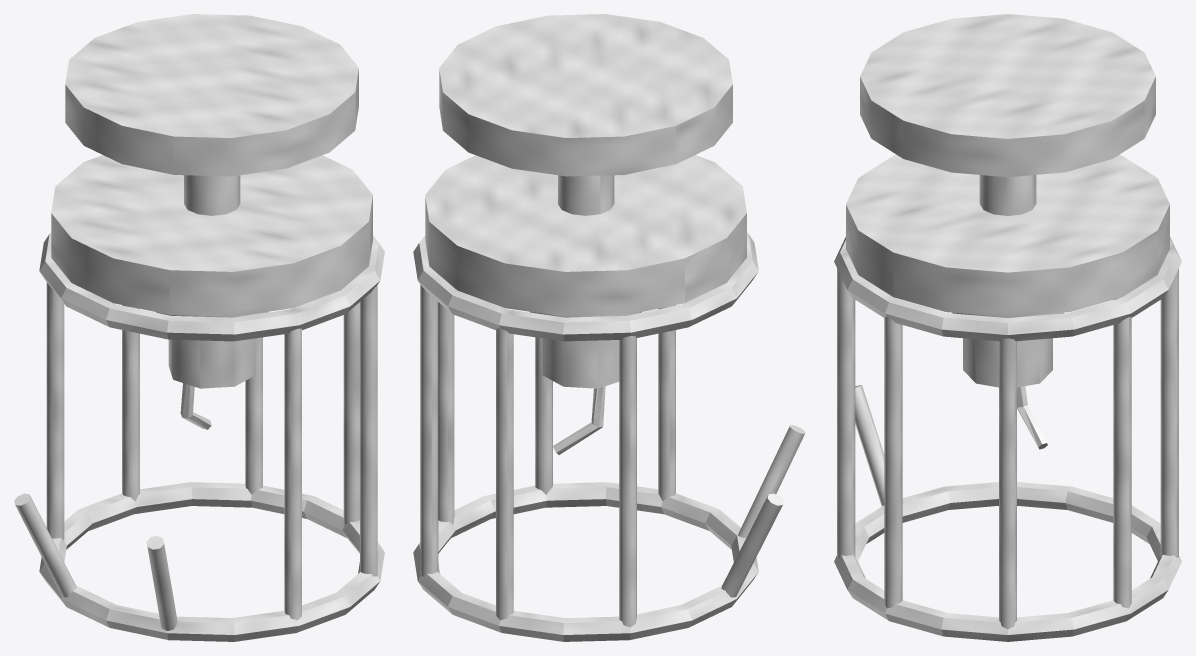
File: ceiling_lamp_broken.glb
3 views of the same model, side by side, from view 1: azimuth 30°, elevation 25°; view 2: azimuth 150°, elevation 25°; view 3: azimuth 270°, elevation 25° (orthographic).
Visible parts, largest first — view 1: ceiling_lamp_broken; view 2: ceiling_lamp_broken; view 3: ceiling_lamp_broken.
Boxes of the visible parts, x1,y1,x2,y2 form: ceiling_lamp_broken: [14, 14, 384, 641]; ceiling_lamp_broken: [413, 14, 805, 641]; ceiling_lamp_broken: [834, 14, 1181, 641].
Size of the model in its own units: 0.5692 by 0.7747 by 0.494.
Materials: 3 (3 with a texture image).
